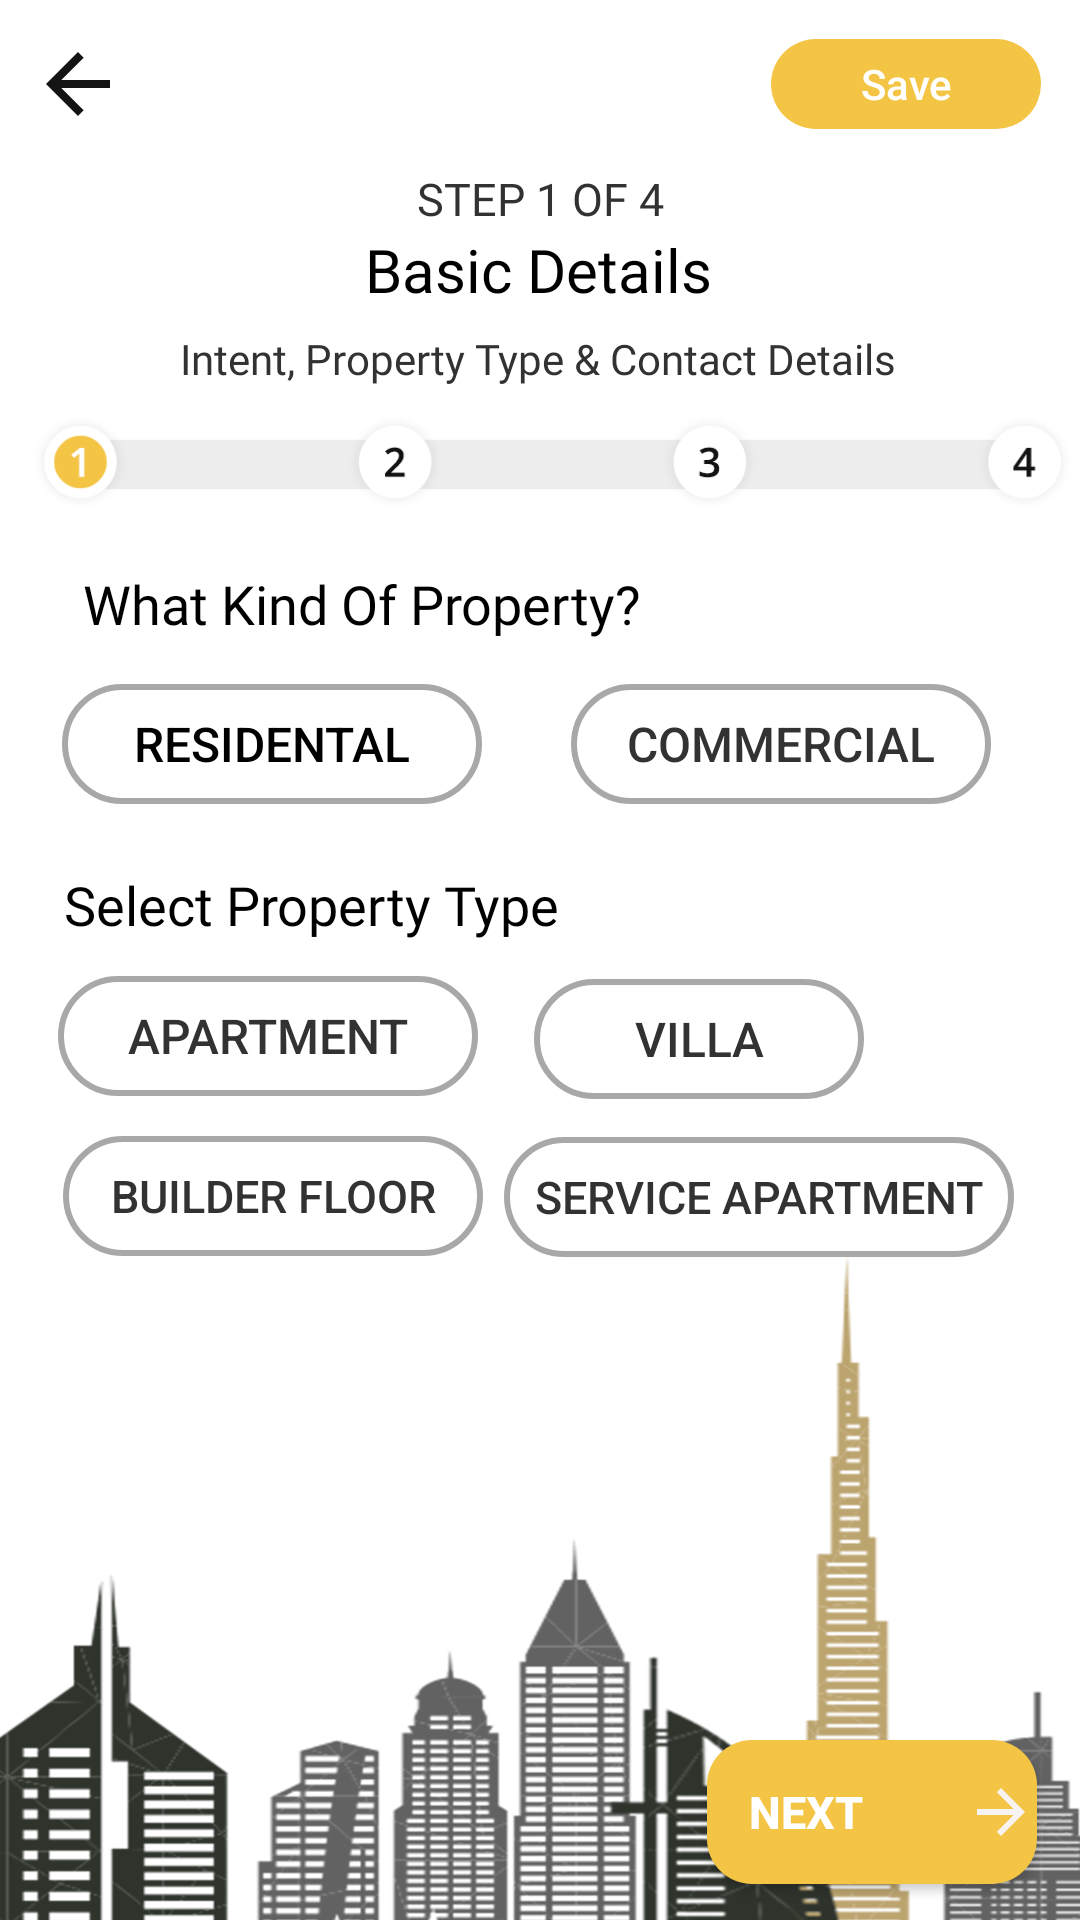

Icon click points for this 1080x1920 phone screenshot, format (x=x, y=y):
back arrow: (x=78, y=84)
